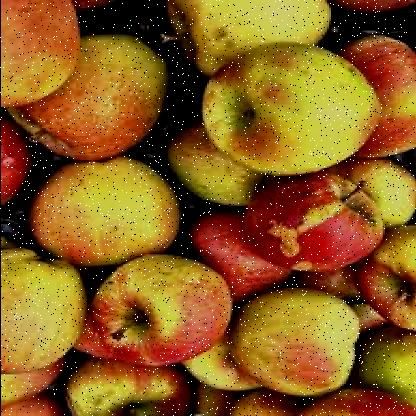apple: (34, 156, 180, 270), (4, 254, 88, 378)
damaged_apple: (202, 43, 376, 181), (92, 254, 234, 366), (262, 176, 378, 274)
